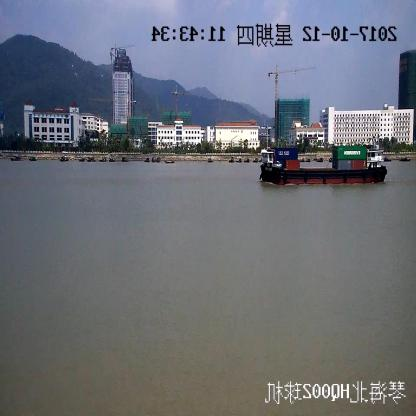Container Ship: (260, 145, 386, 184)
